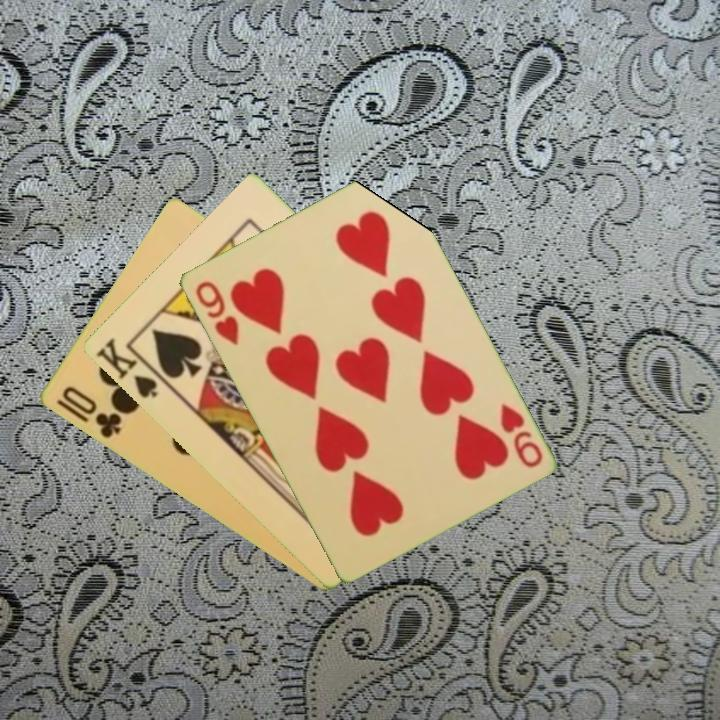10c: (58, 382, 124, 442)
9h: (191, 277, 241, 349), (495, 399, 545, 471)
Ks: (92, 334, 171, 401)
